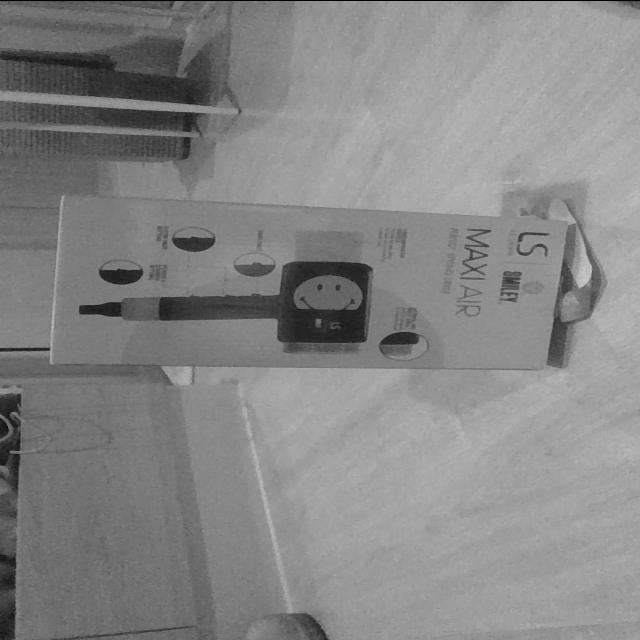Dryer: (46, 192, 576, 372)
